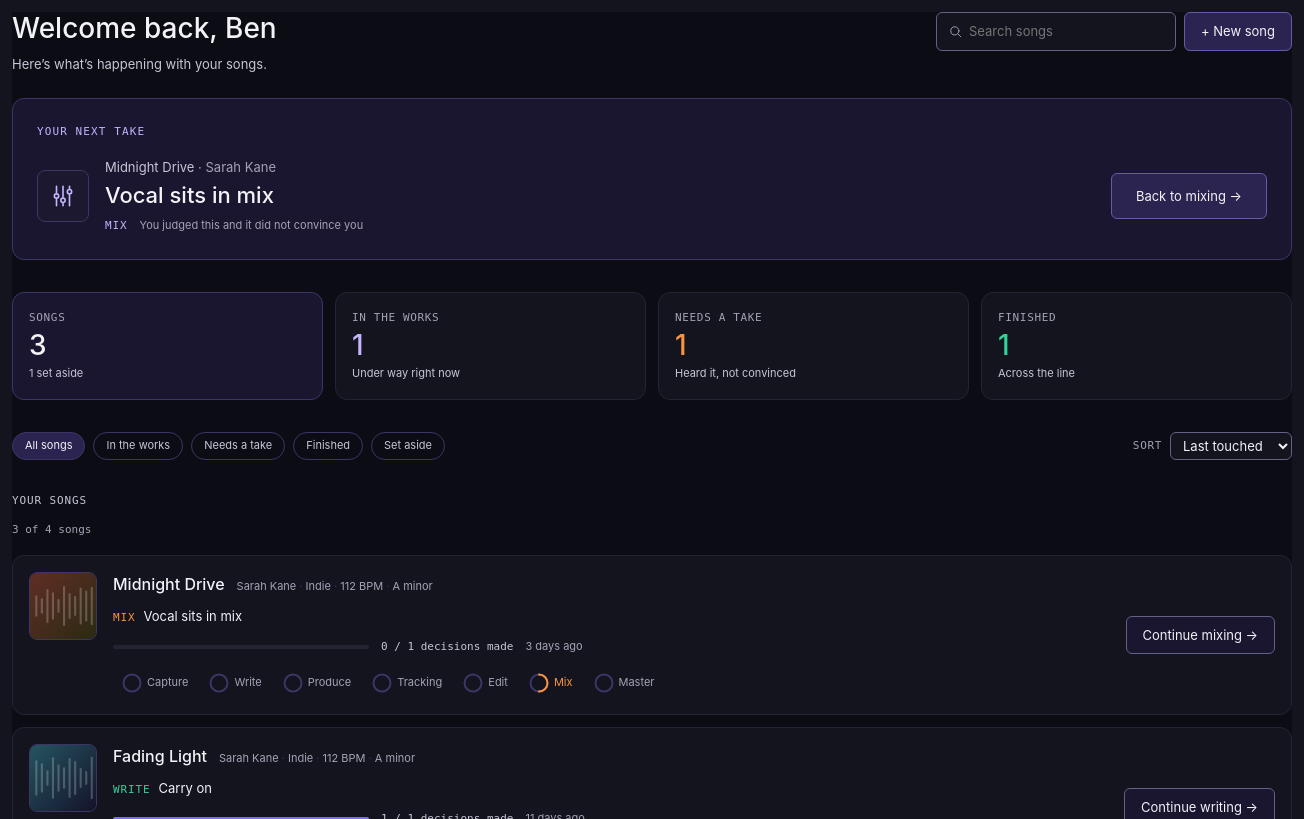
the dashboard › searches over the title, the artist and the sound of a song
Expected: the heading "Welcome back, Ben" is shown, 12,12 -> 277,46
In the search field with placeholder "Search songs": (1056, 31) 936,12 -> 1176,51, type "ocean"
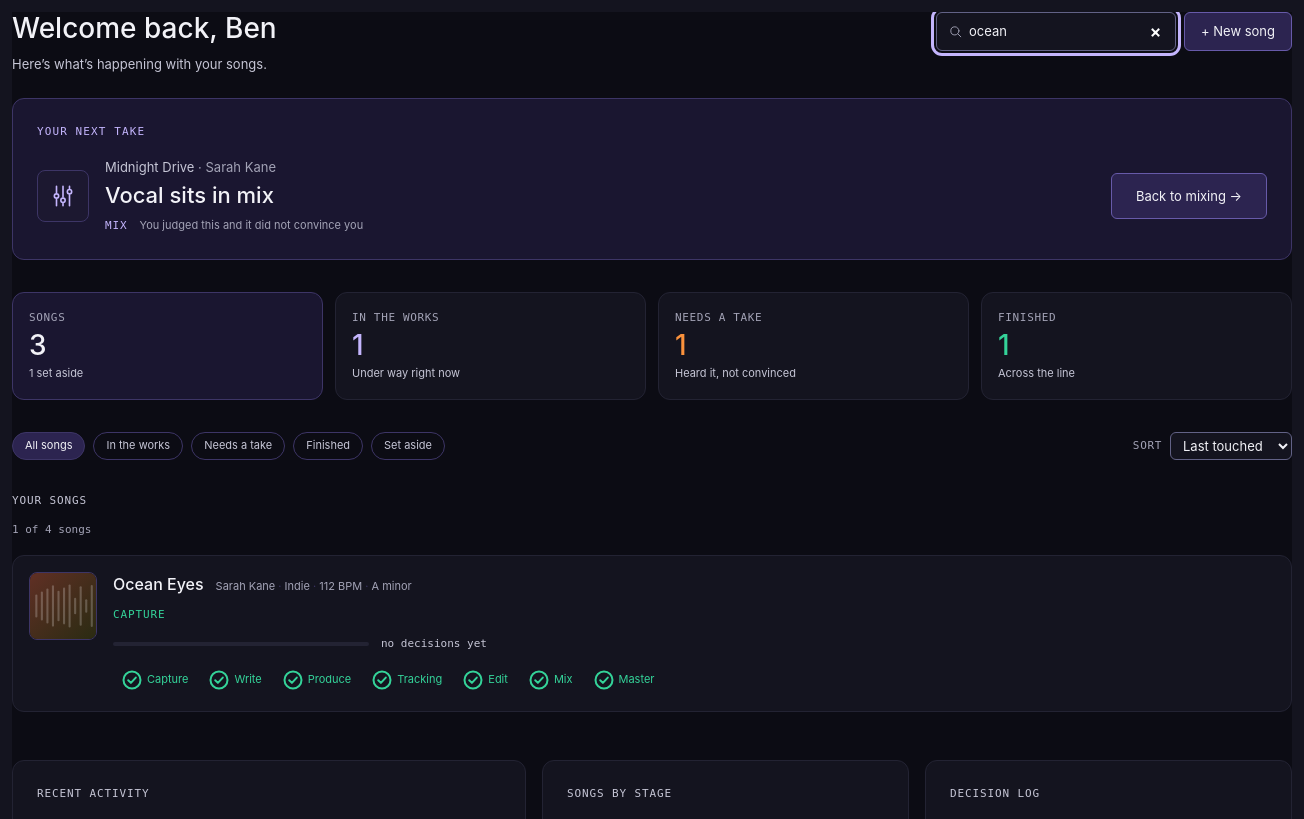
Expected: the heading "Ocean Eyes" is shown, 113,572 -> 204,598
Expected: the text "1 of 4 songs" is shown, 12,524 -> 92,536
